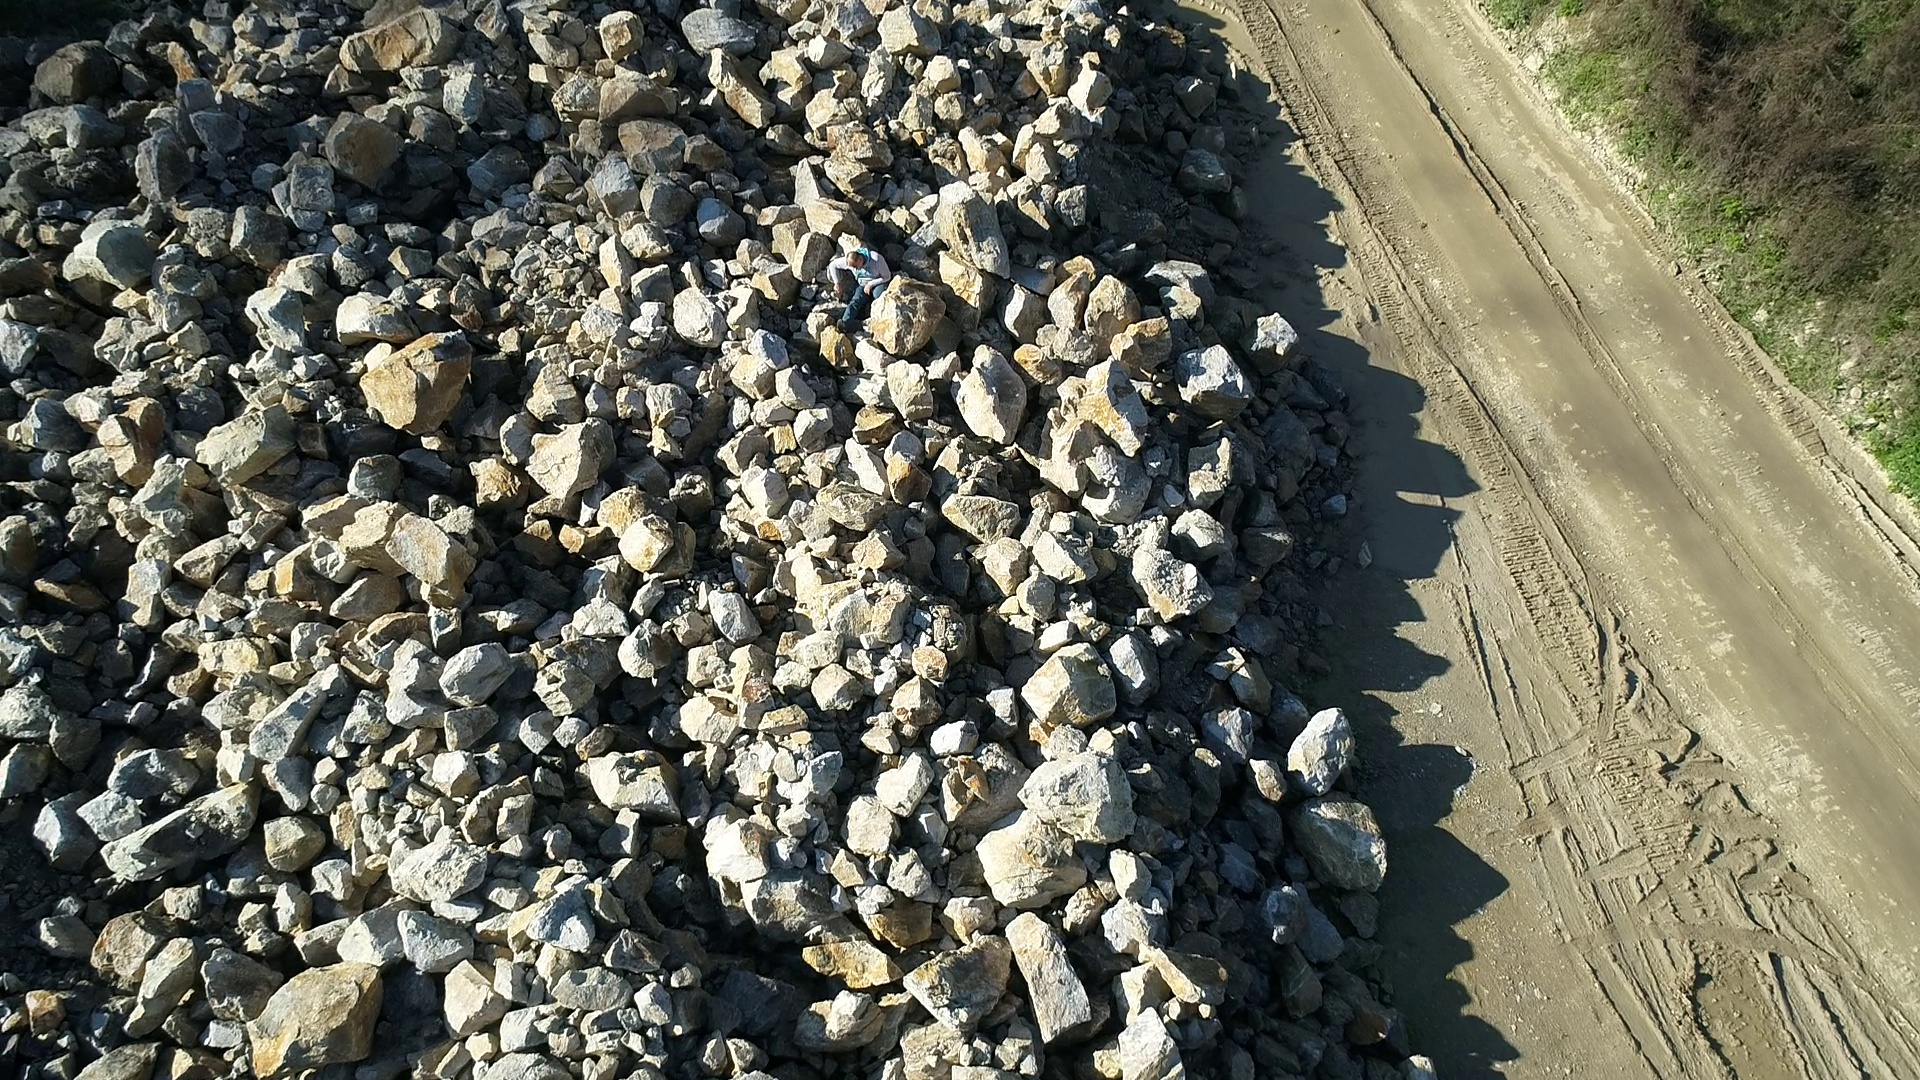person: (829, 246, 892, 332)
